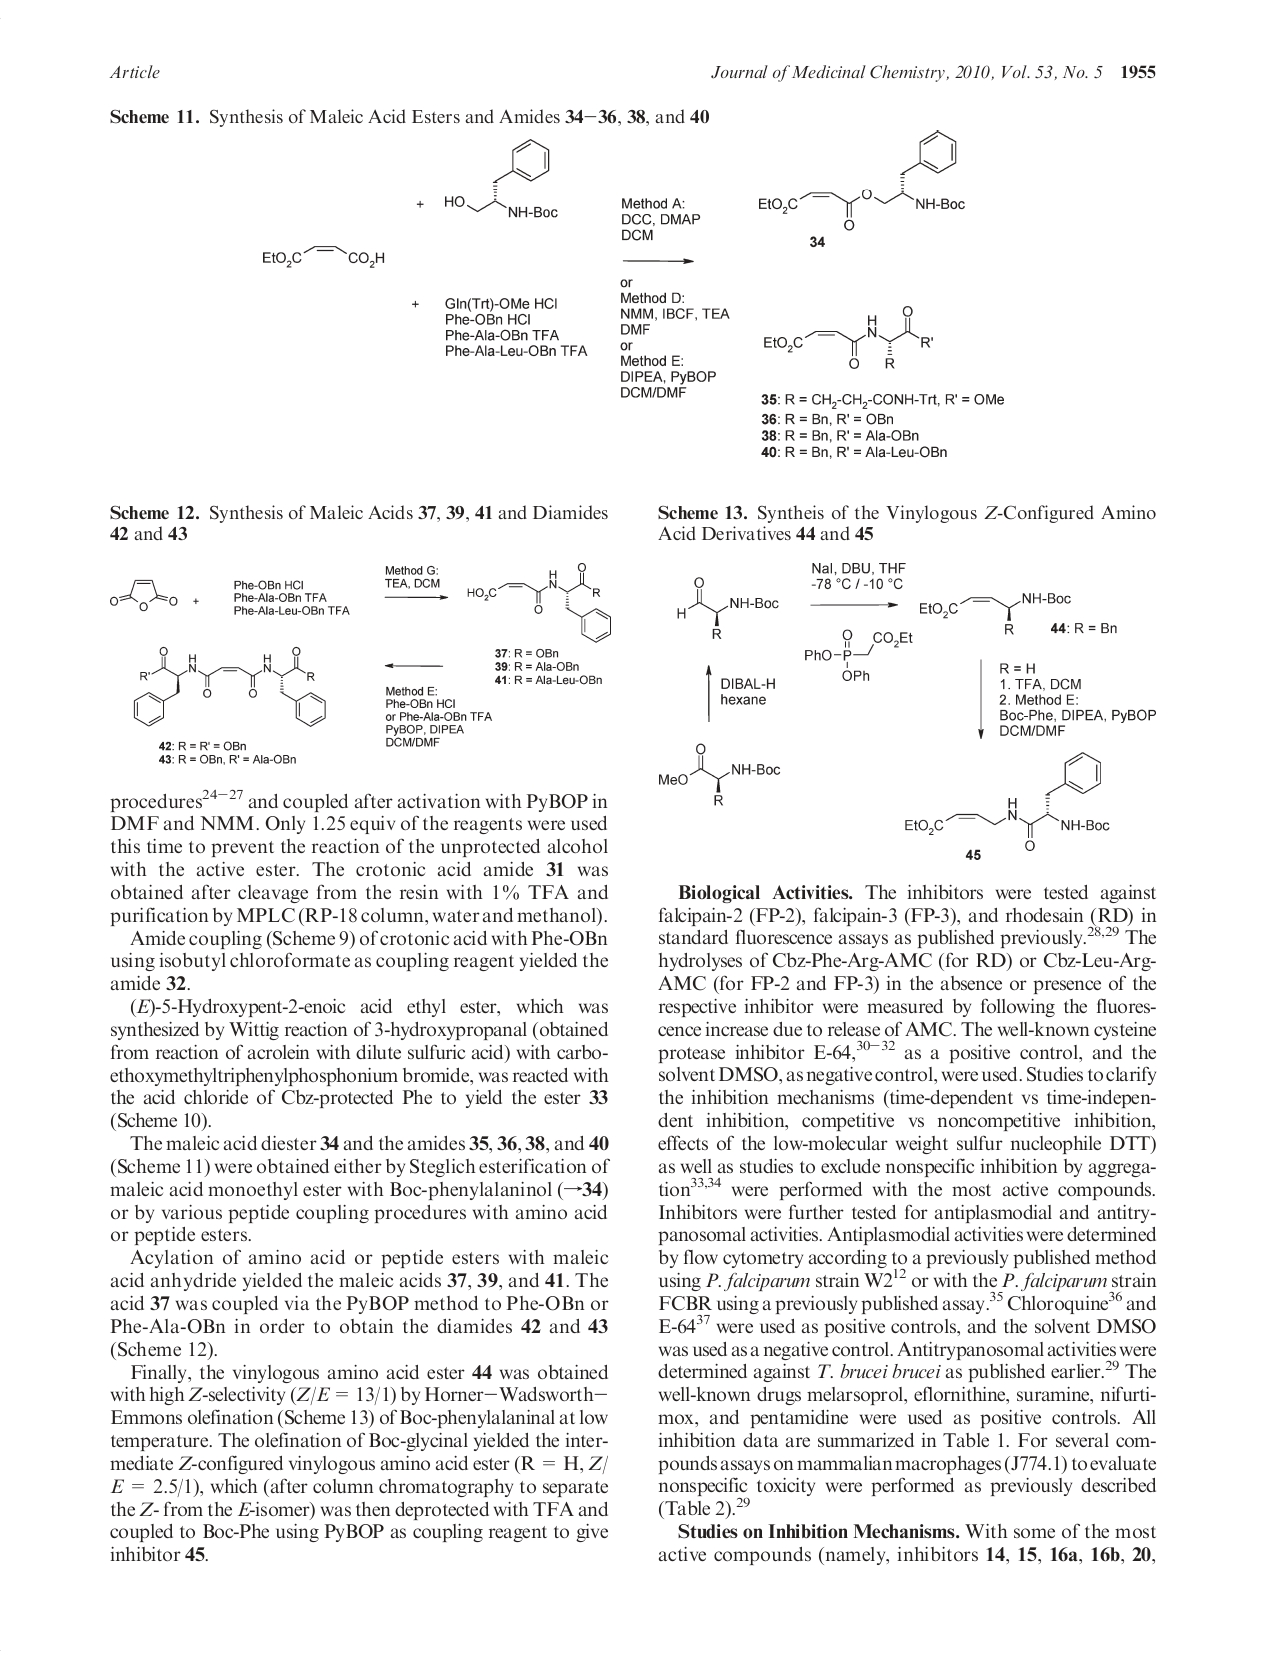exist_molecular: (754, 126, 968, 231), (903, 749, 1112, 852), (132, 645, 331, 727), (465, 561, 613, 645), (762, 303, 938, 372), (442, 136, 561, 222), (658, 743, 781, 807), (918, 590, 1075, 636), (674, 576, 781, 640), (257, 239, 387, 273), (108, 578, 180, 613)
